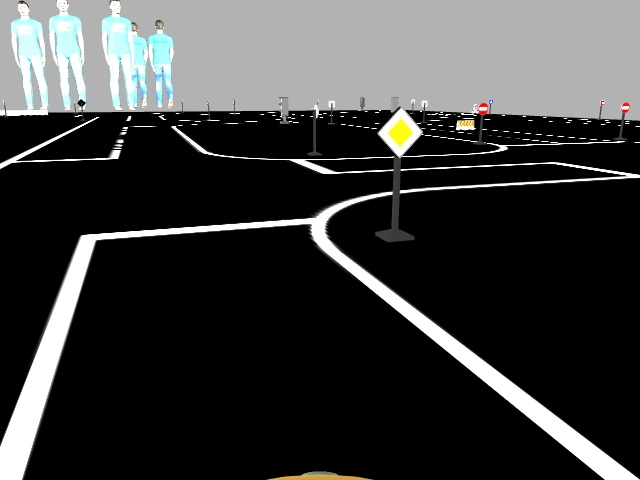Priority: (377, 106, 423, 156)
